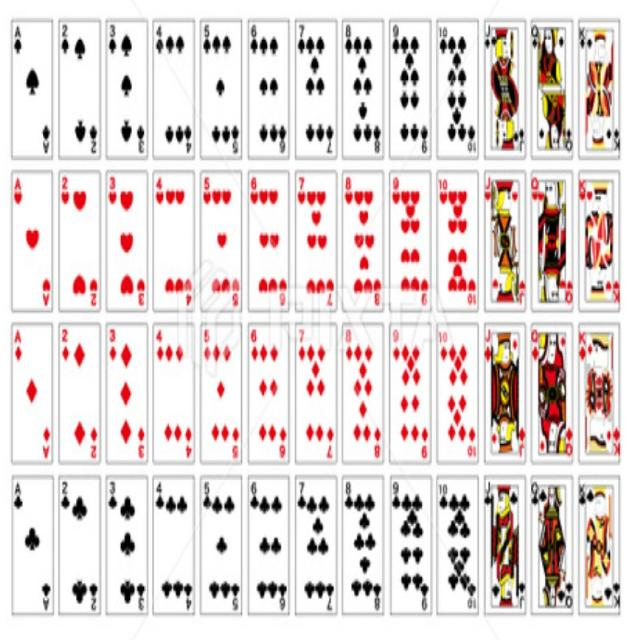C10: (438, 472, 479, 612)
C2: (60, 476, 96, 618)
C3: (102, 472, 150, 618)
C4: (152, 474, 196, 618)
C5: (195, 476, 242, 617)
C6: (248, 480, 290, 611)
C7: (294, 476, 339, 613)
C8: (341, 474, 384, 620)
C9: (389, 474, 430, 617)
CA: (9, 474, 53, 621)
CJ: (481, 472, 527, 618)
CK: (577, 474, 623, 614)
CQ: (530, 476, 577, 620)
H10: (437, 166, 479, 313)
H2: (58, 166, 102, 319)
H3: (106, 168, 150, 314)
H4: (154, 166, 194, 314)
H5: (201, 166, 244, 312)
H6: (244, 171, 289, 317)
H7: (294, 168, 336, 313)
H8: (341, 170, 387, 316)
H9: (389, 166, 433, 313)
HA: (9, 170, 55, 316)
HJ: (483, 170, 524, 302)
HK: (577, 170, 620, 312)
HQ: (528, 170, 576, 316)
R10: (438, 321, 481, 465)
R2: (56, 321, 100, 469)
R3: (105, 321, 150, 466)
R4: (149, 321, 196, 462)
R5: (200, 317, 246, 470)
R6: (244, 319, 289, 463)
R7: (294, 319, 336, 461)
R8: (343, 326, 384, 464)
R9: (389, 315, 430, 466)
RA: (10, 323, 53, 465)
RJ: (481, 319, 528, 469)
RK: (582, 321, 622, 469)
RQ: (530, 326, 575, 464)
S10: (436, 15, 478, 164)
S2: (58, 20, 101, 161)
S3: (106, 20, 147, 161)
S4: (153, 18, 194, 158)
S5: (200, 18, 242, 156)
S6: (248, 18, 288, 161)
S7: (298, 16, 336, 159)
S8: (343, 18, 382, 158)
S9: (392, 20, 430, 164)
SA: (11, 20, 55, 158)
SJ: (484, 16, 525, 159)
SK: (579, 20, 620, 165)
SQ: (529, 15, 573, 164)
